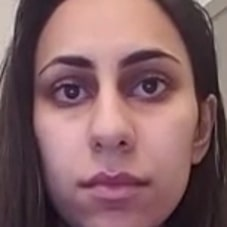awake: (39, 44, 187, 208)
